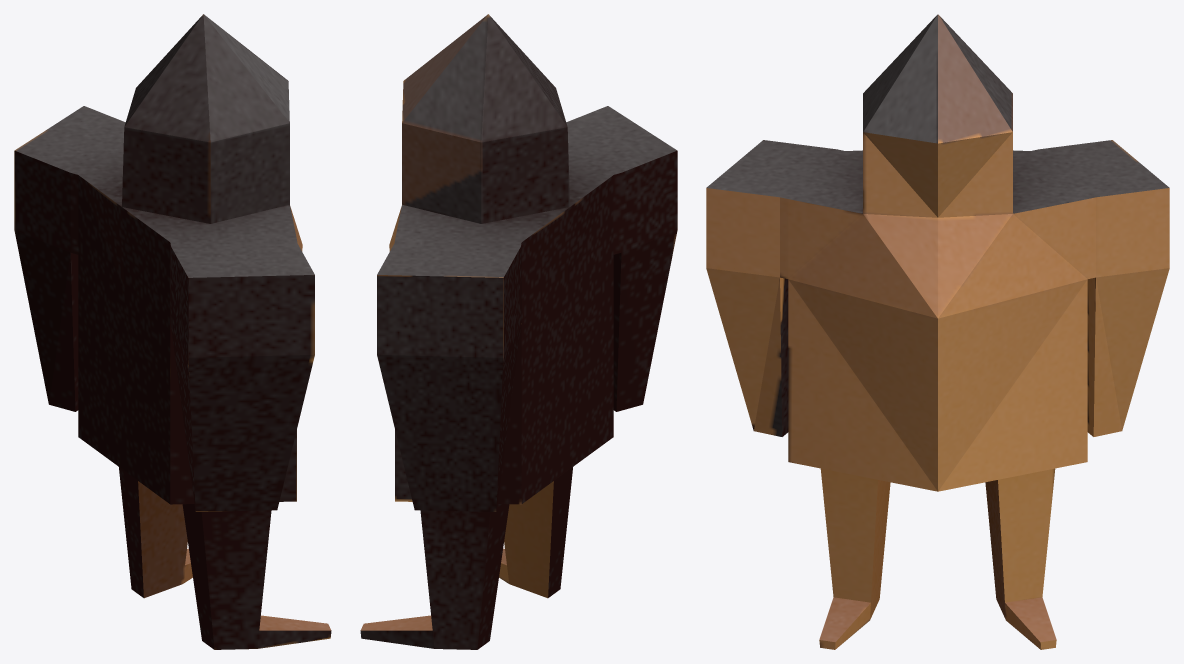
File: floor3_armour.obj
3 views of the same model, side by side, from view 1: azimuth 30°, elevation 25°; view 2: azimuth 150°, elevation 25°; view 3: azimuth 270°, elevation 25° (orthographic).
Visible parts, largest first — view 1: Cylinder.011; view 2: Cylinder.011; view 3: Cylinder.011.
Boxes of the visible parts, x1,y1,x2,y2 form: Cylinder.011: (14, 14, 331, 649); Cylinder.011: (360, 14, 677, 649); Cylinder.011: (706, 14, 1169, 649).
Bounding box in the file's own units: 0.466 × 1.32 × 0.9267.
Materials: 1 (1 with a texture image).
